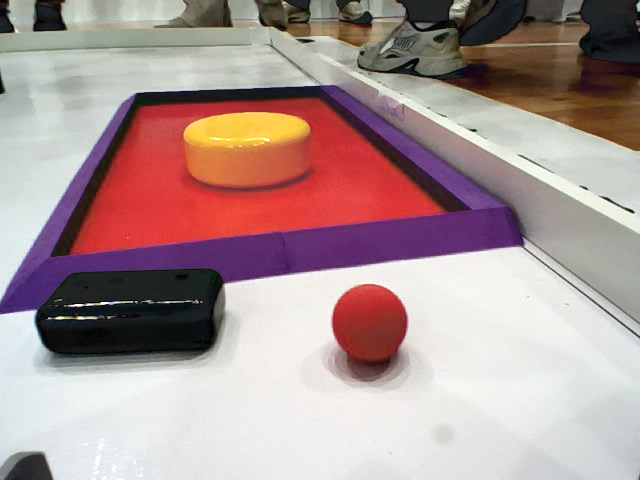black: (36, 270, 233, 361)
kuang: (8, 76, 529, 316)
red: (329, 281, 409, 373)
yellow: (184, 110, 321, 191)
